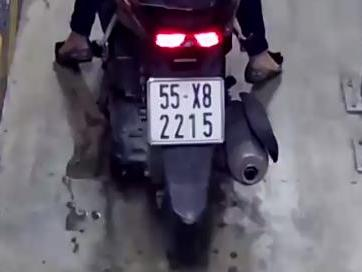num_plate: (147, 78, 225, 143)
